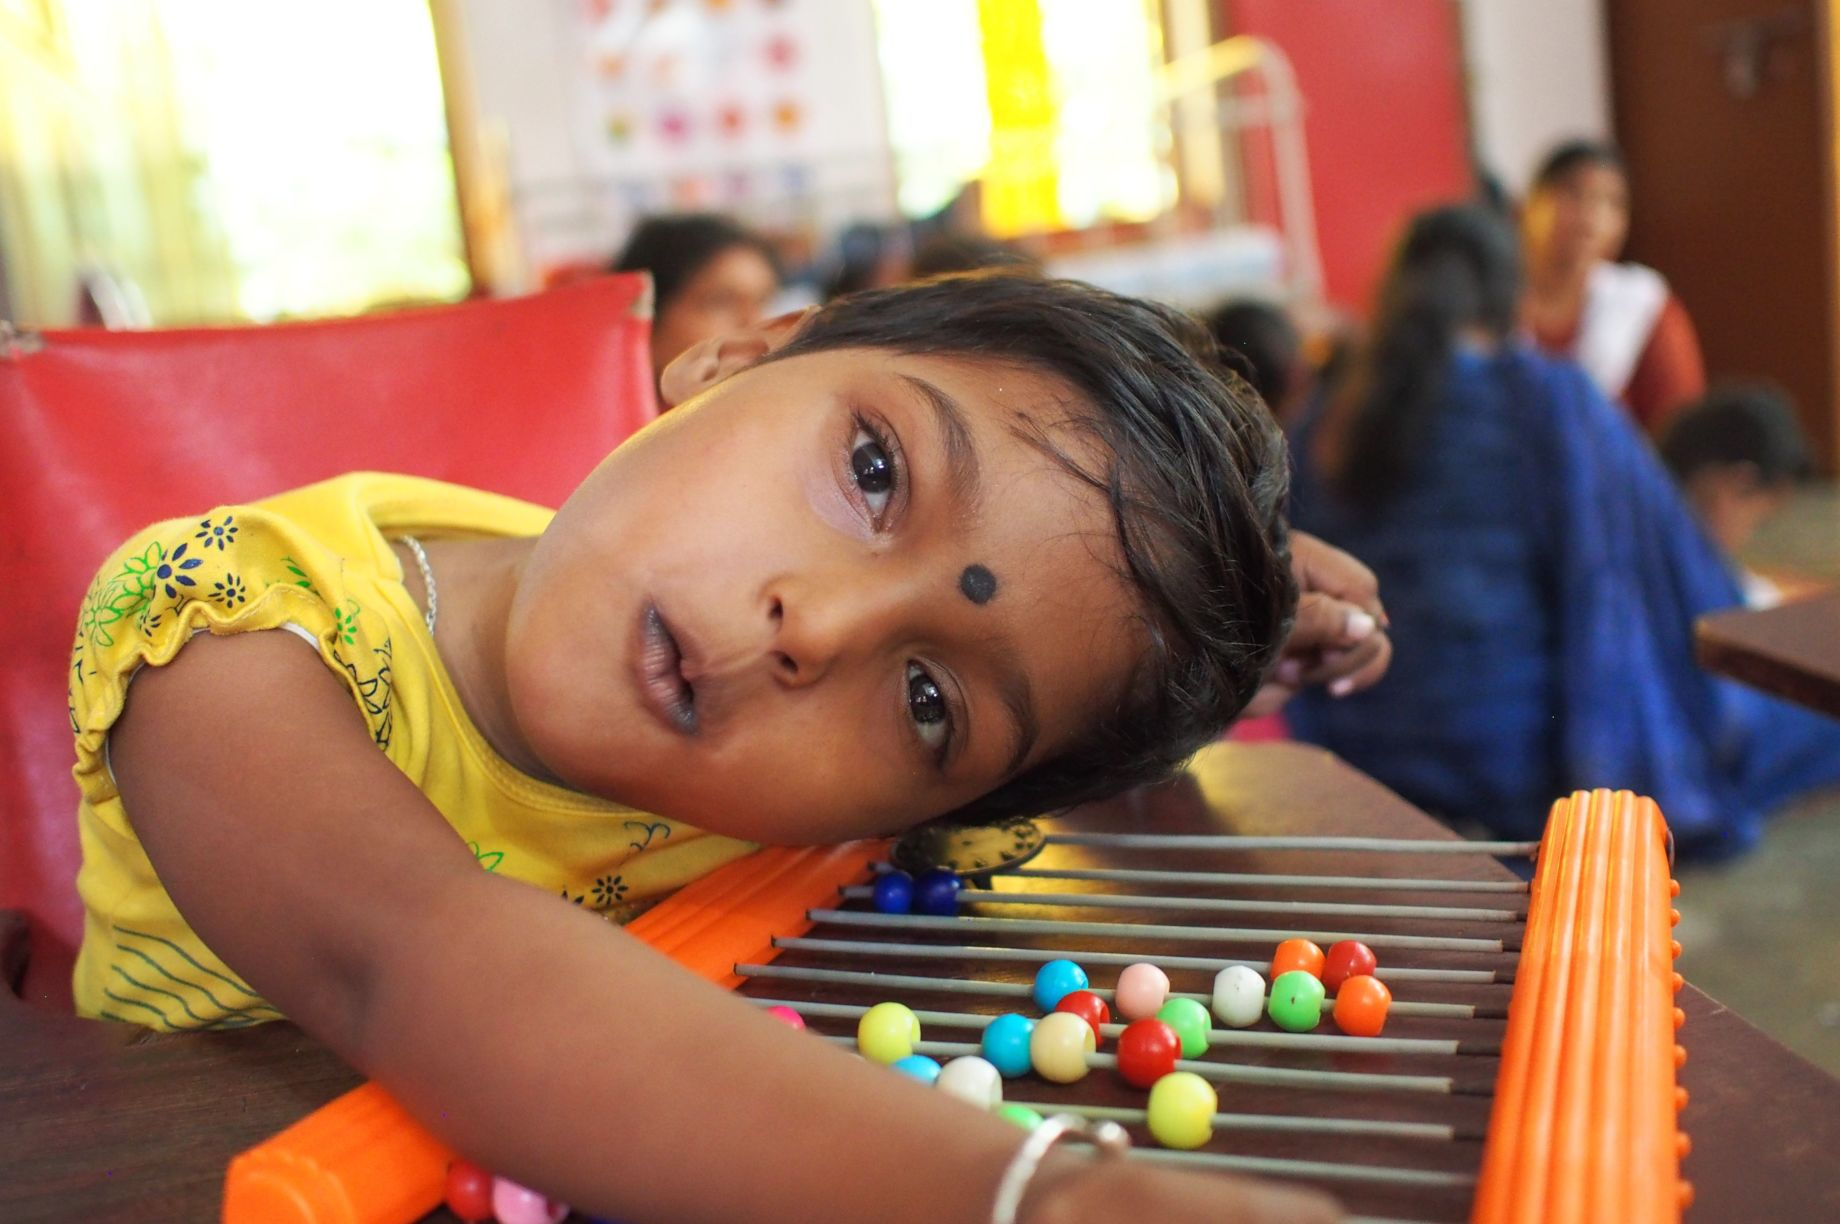human: (12, 258, 1499, 1224)
